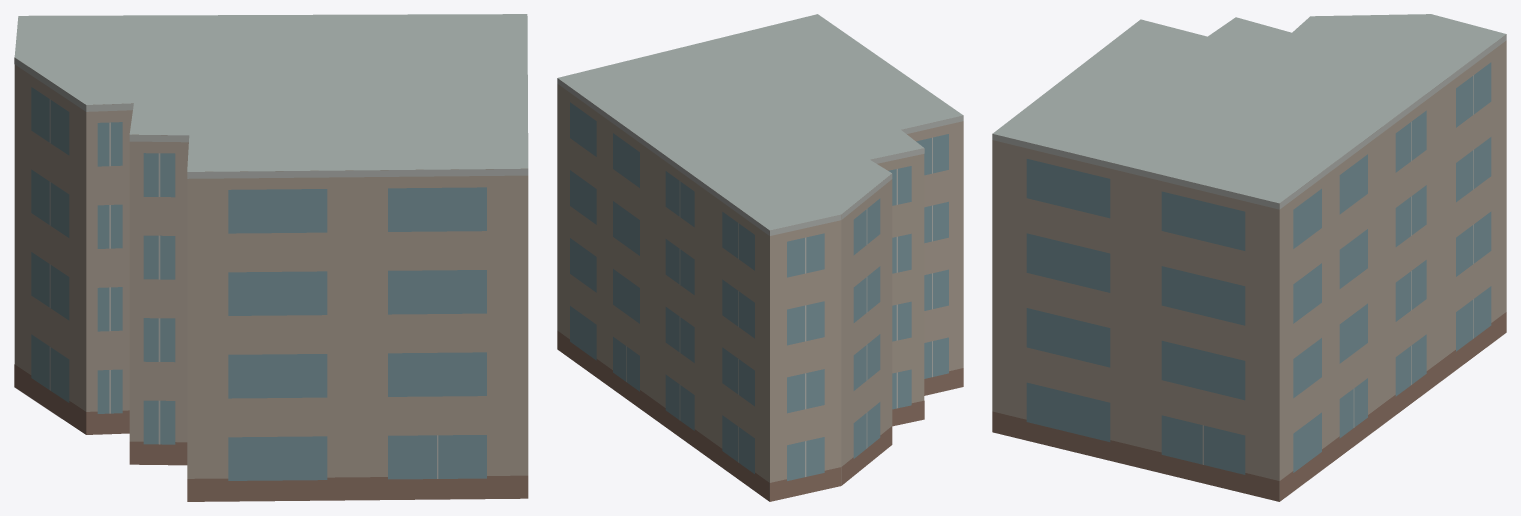
The model's file is survey-upis-32847594.glb.
The picture shows the model from 3 angles, left to right: view 1: azimuth 30°, elevation 25°; view 2: azimuth 150°, elevation 25°; view 3: azimuth 270°, elevation 25°; orthographic projection. The views are drawn at different scales.
Parts seen in each view (by area): view 1: survey-upis-32847594.tmp; view 2: survey-upis-32847594.tmp; view 3: survey-upis-32847594.tmp.
Part boxes in pixels (box(x1,y1,x2,y2)): survey-upis-32847594.tmp: box(14, 14, 528, 501); survey-upis-32847594.tmp: box(557, 14, 963, 501); survey-upis-32847594.tmp: box(992, 14, 1506, 501).
Bounding box in the file's own units: 15.93 × 11.7 × 18.28.
